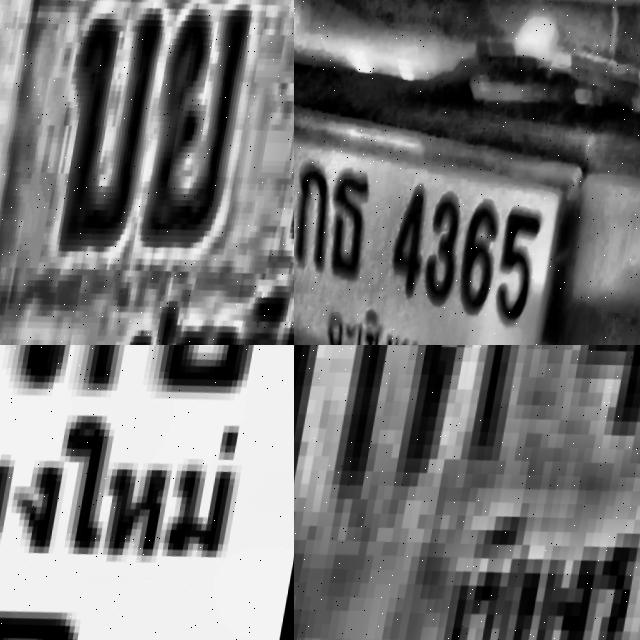license-plate: (294, 345, 640, 640), (0, 0, 294, 345), (0, 345, 294, 640), (294, 132, 565, 345)
